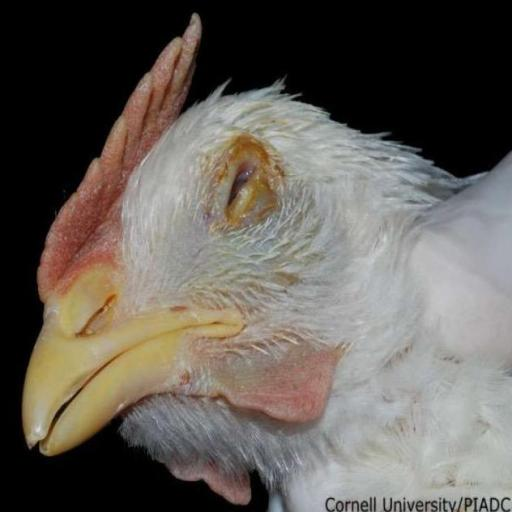disease: (200, 126, 290, 228)
